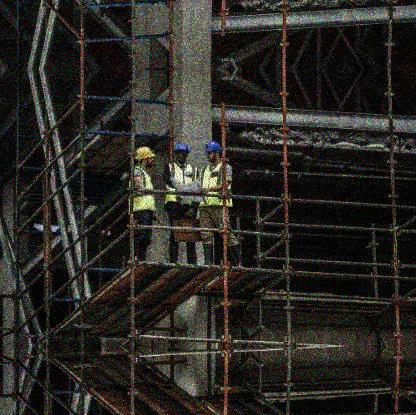helmet: (136, 147, 155, 171), (172, 142, 188, 165), (205, 140, 220, 163)
